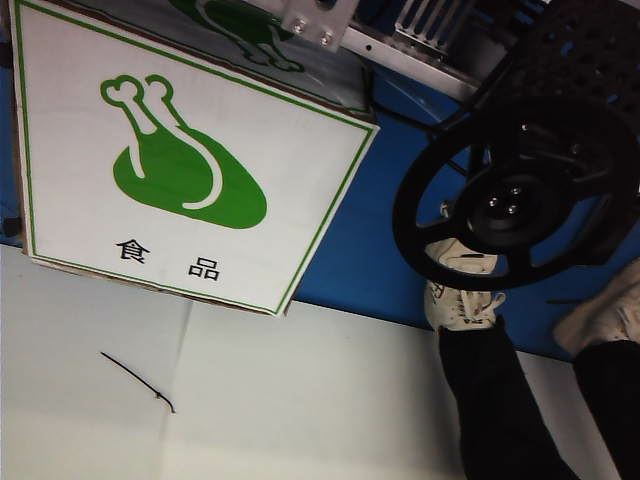Cube_food: (94, 66, 276, 293)
